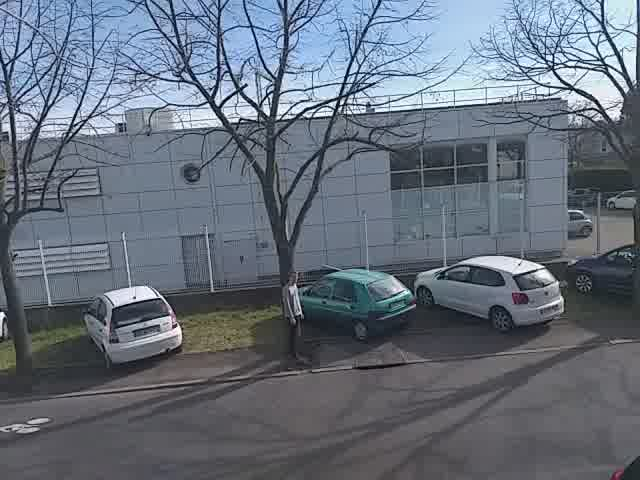persona: (274, 268, 309, 373)
